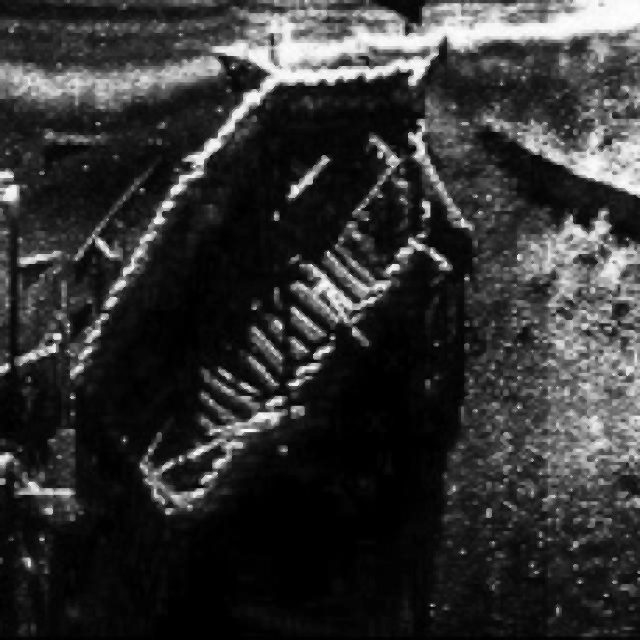Ship: (27, 34, 480, 562)
